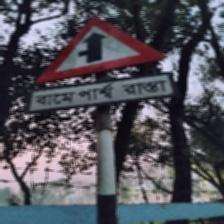Side-road-left: (28, 15, 173, 115)
